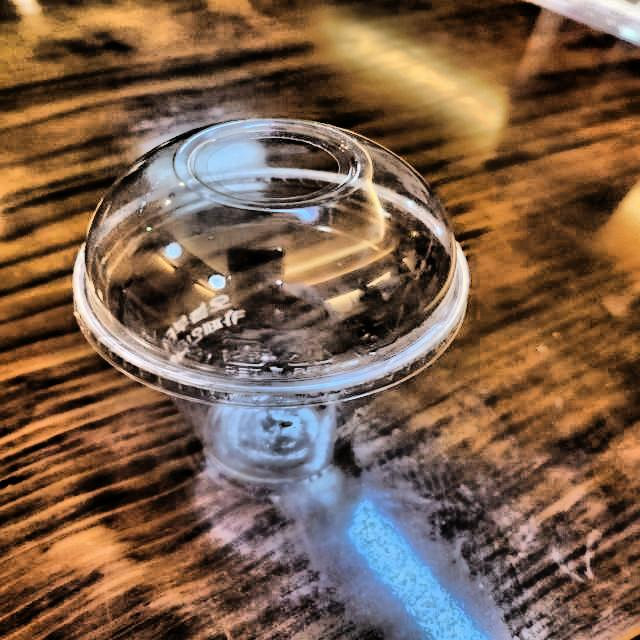plastic cup: (48, 104, 516, 520)
